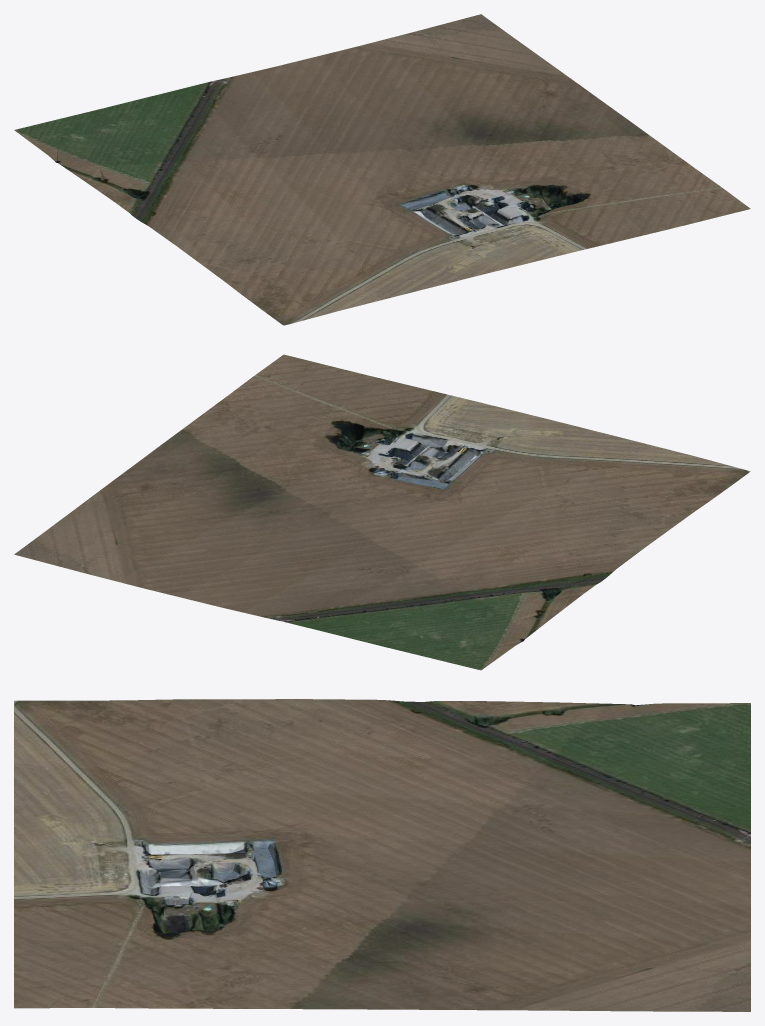
The model's file is map_12_1020_1720.dae.
3 views of the same model, one above another, from view 1: azimuth 30°, elevation 25°; view 2: azimuth 150°, elevation 25°; view 3: azimuth 270°, elevation 25° (orthographic). The views are drawn at different scales.
Parts seen in each view (by area): view 1: Ter0; view 2: Ter0; view 3: Ter0.
Part boxes in pixels (<box>): Ter0: <box>14,14,750,325</box>; Ter0: <box>14,354,750,670</box>; Ter0: <box>14,699,750,1011</box>.
Bounding box in the file's own units: 511 × 511 × 21.21.
3 materials, 3 textured.
